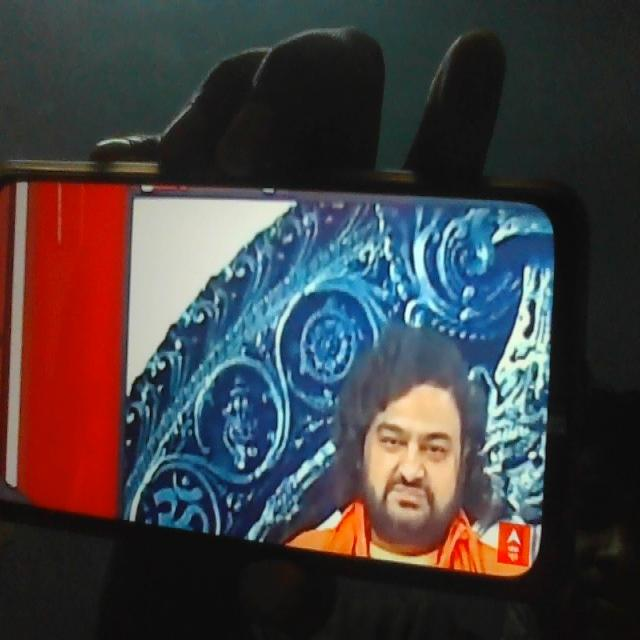fake: (358, 332, 473, 549)
